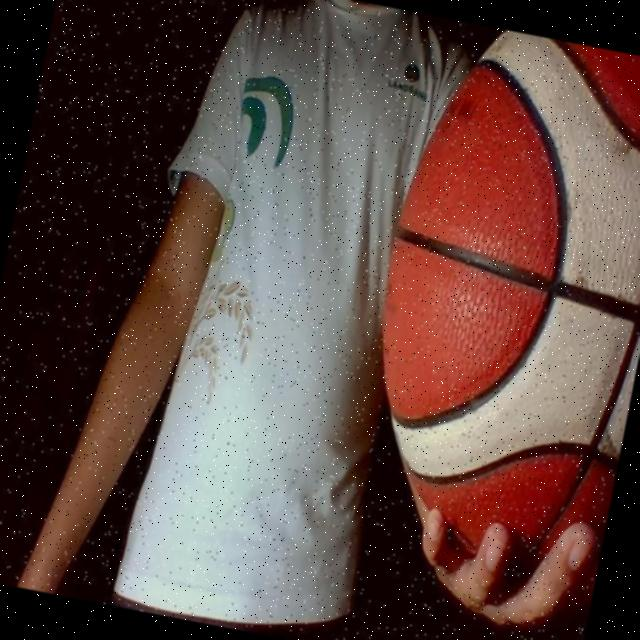ball: (332, 17, 640, 613)
